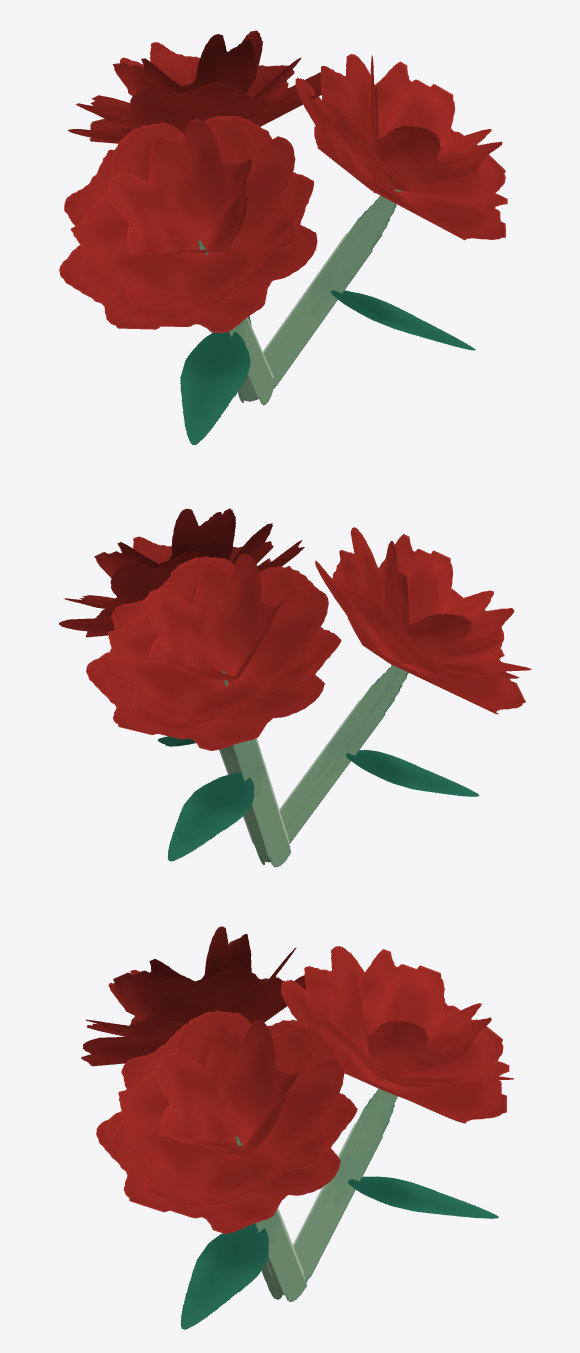
The model's file is Rose_r_Cluster.fbx.
3 renders of one model, top to bottom at view 1: azimuth 30°, elevation 25°; view 2: azimuth 150°, elevation 25°; view 3: azimuth 270°, elevation 25°, orthographic. The views are drawn at different scales.
Parts seen in each view (by area): view 1: polySurface505; view 2: polySurface505; view 3: polySurface505.
Boxes of the visible parts, x1,y1,x2,y2 form: polySurface505: (59,30,507,444); polySurface505: (59,508,531,867); polySurface505: (81,926,514,1329).
Size of the model in its own units: 0.4057 by 0.2681 by 0.3718.
